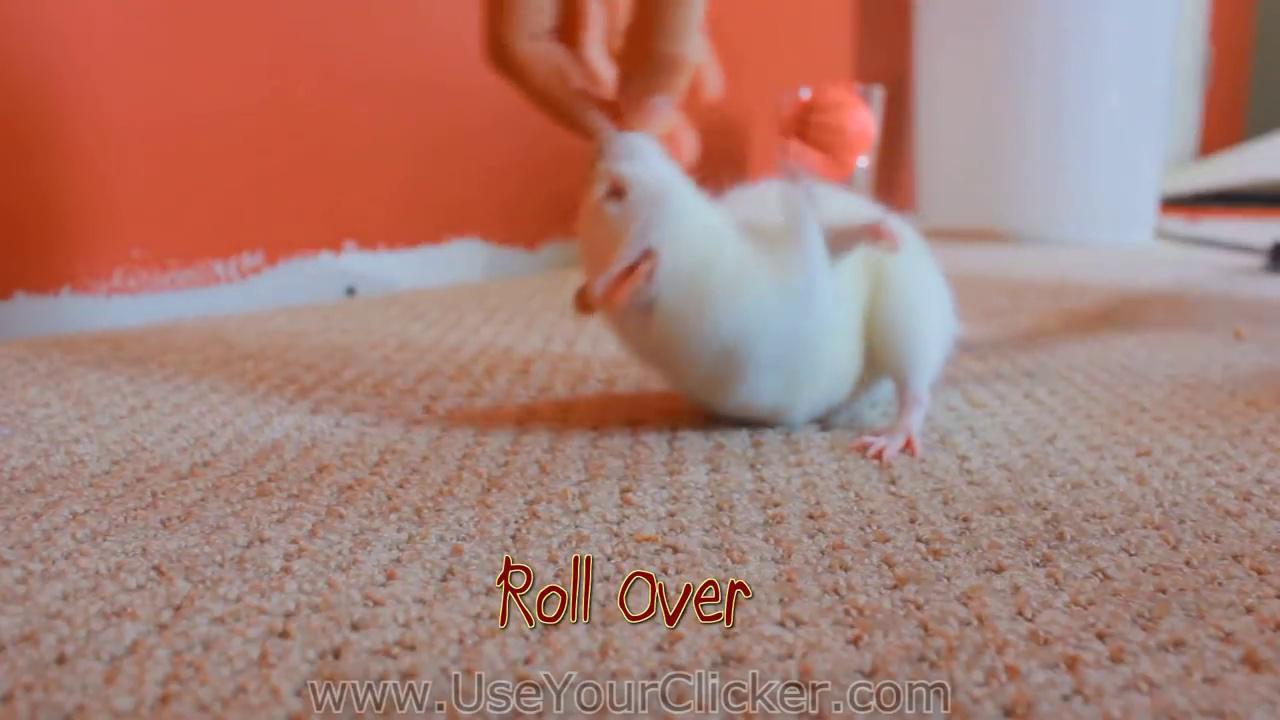rat: (576, 131, 956, 463)
